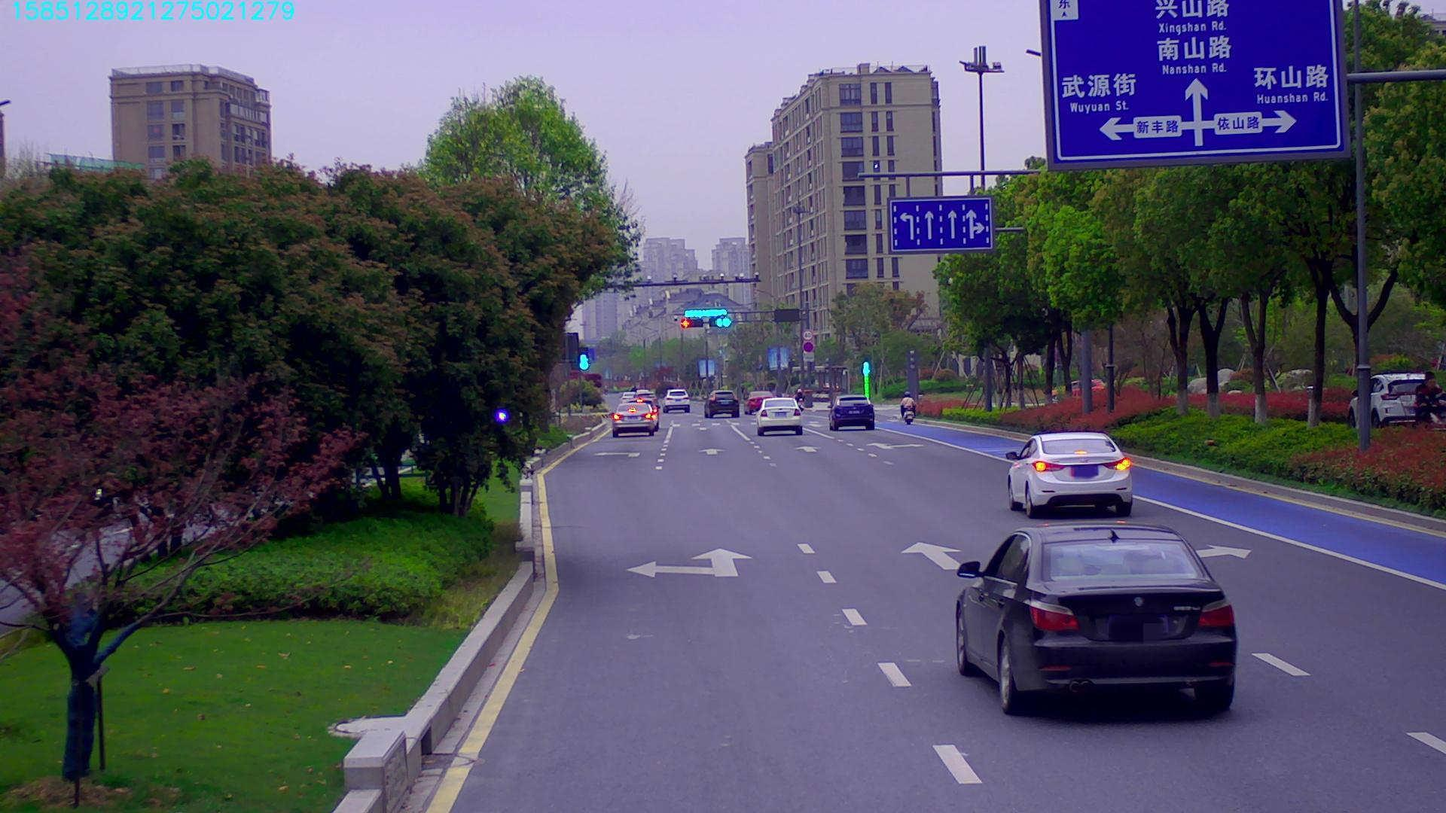green: (707, 317, 731, 327)
red: (682, 315, 700, 327)
wait_on: (682, 308, 725, 315)
